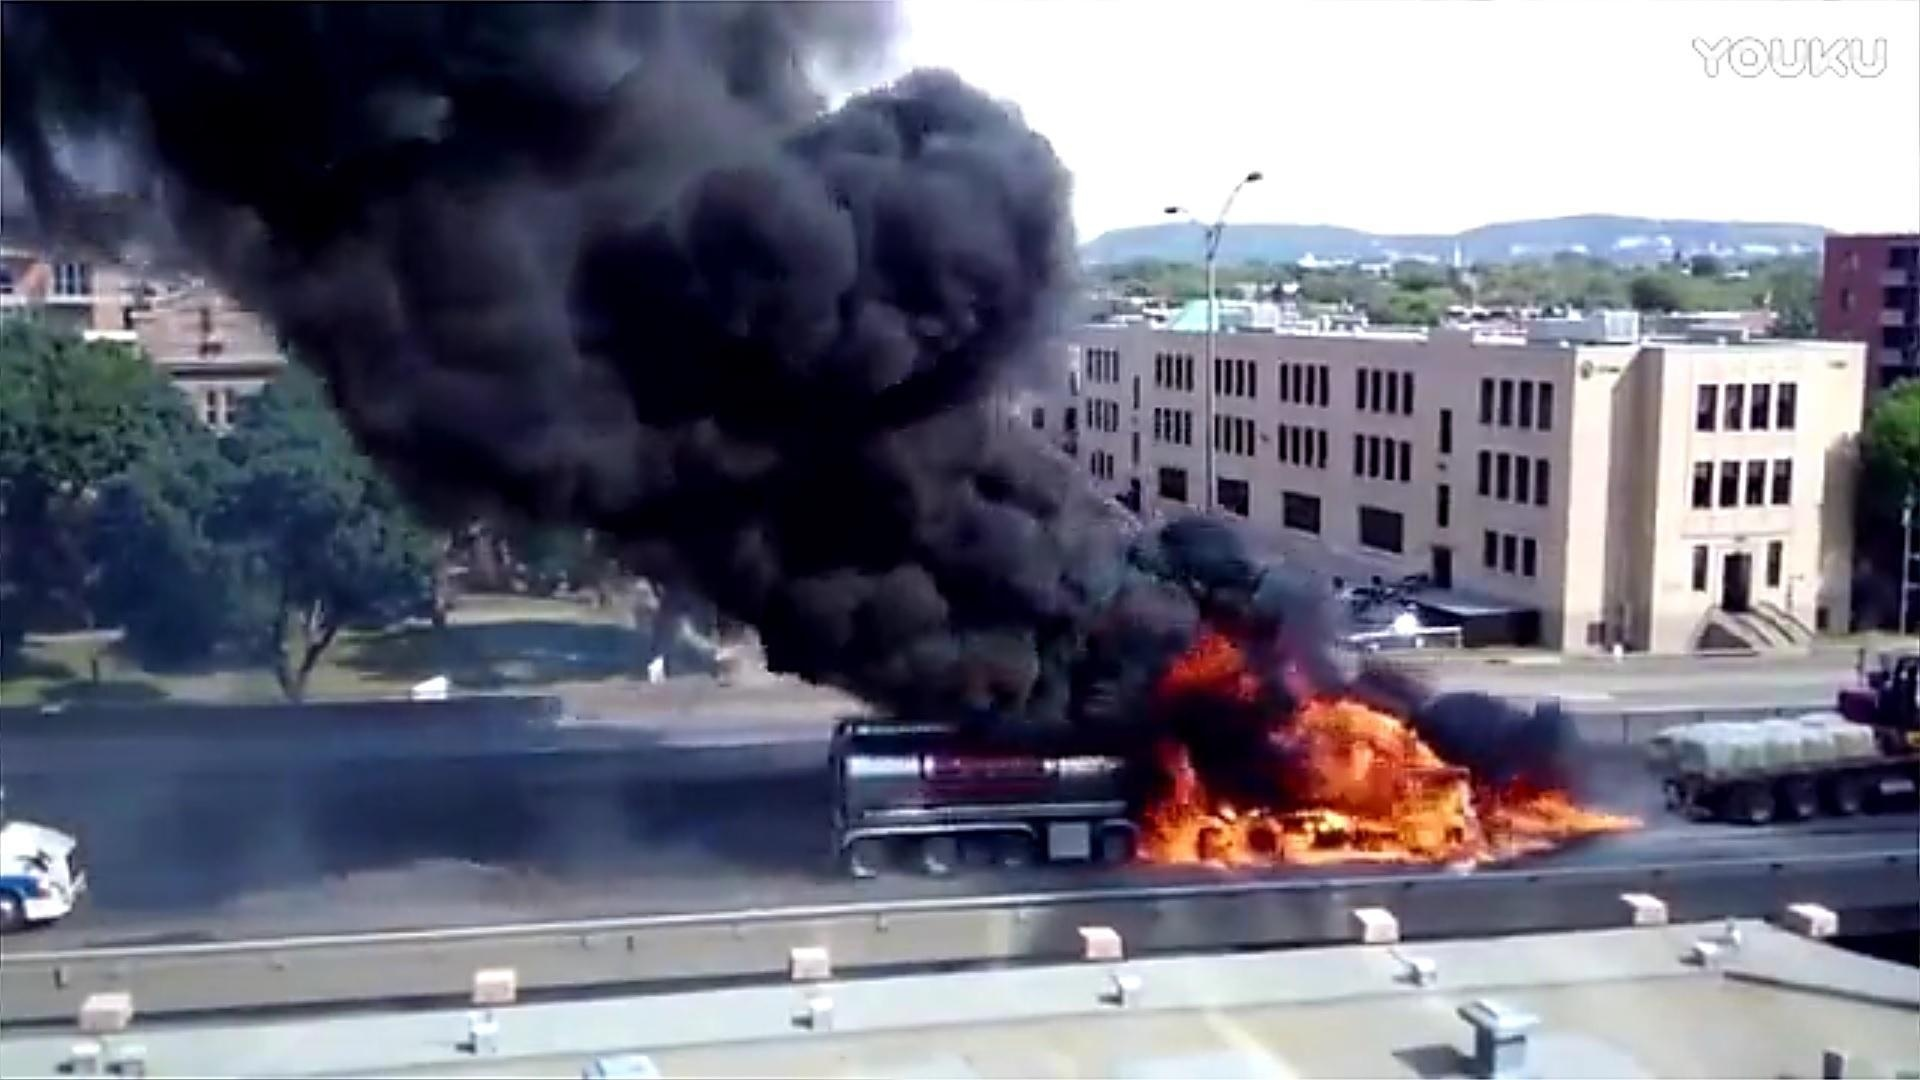fire: (1137, 636, 1627, 876)
